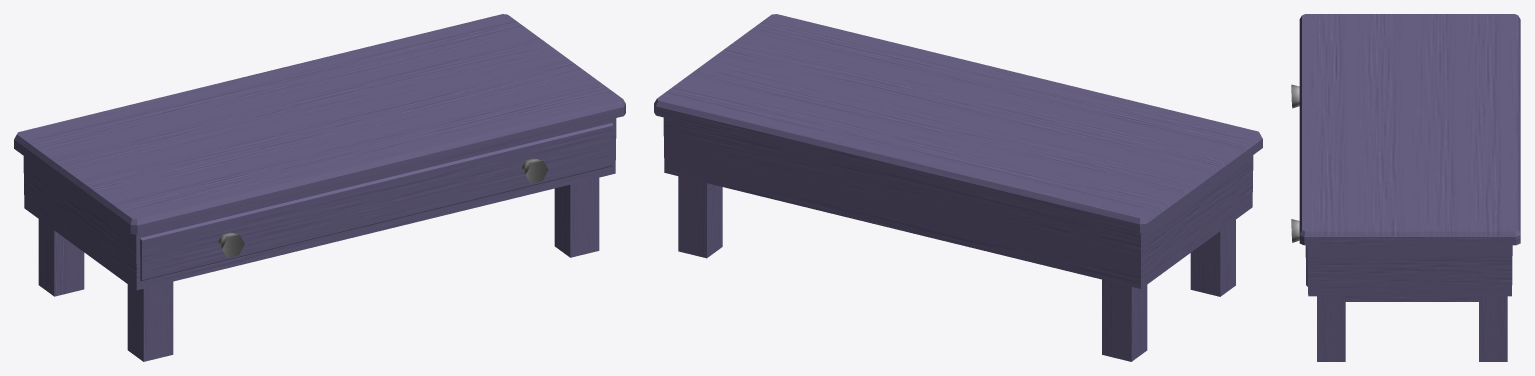
File: Coffee_Table_B_6.FBX
The picture shows the model from 3 angles, left to right: view 1: azimuth 30°, elevation 25°; view 2: azimuth 150°, elevation 25°; view 3: azimuth 270°, elevation 25°; orthographic projection. The views are drawn at different scales.
Parts seen in each view (by area): view 1: Coffee Table_B; view 2: Coffee Table_B; view 3: Coffee Table_B.
Boxes of the visible parts, x1=… form: Coffee Table_B: x1=14, y1=14, x2=625, y2=361; Coffee Table_B: x1=654, y1=14, x2=1262, y2=361; Coffee Table_B: x1=1291, y1=14, x2=1520, y2=361.
Size of the model in its own units: 201 by 58.91 by 88.61.
